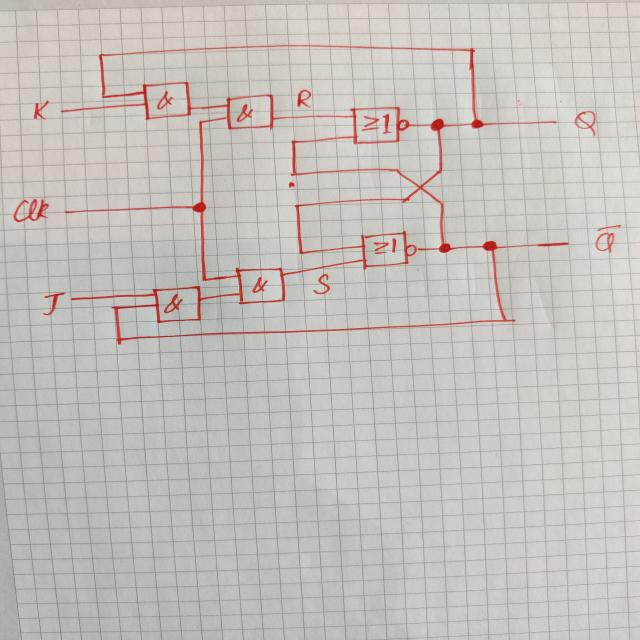crossover: (413, 182, 427, 192)
junction: (428, 119, 446, 132), (191, 201, 208, 214), (481, 240, 499, 252), (437, 242, 452, 254), (470, 118, 484, 129), (435, 198, 448, 208), (95, 51, 107, 60), (434, 167, 446, 176), (398, 196, 411, 204), (114, 336, 125, 345), (110, 304, 121, 312), (199, 275, 210, 283), (392, 166, 403, 174), (466, 46, 476, 54), (289, 138, 299, 146), (296, 249, 306, 257), (288, 170, 298, 178), (499, 317, 510, 324), (98, 93, 108, 100), (292, 203, 301, 209), (197, 119, 204, 125)
terminal: (560, 238, 574, 248), (60, 208, 72, 216), (58, 108, 68, 116), (551, 118, 560, 125), (67, 296, 76, 302)
text: (11, 197, 51, 223), (593, 223, 622, 254), (572, 110, 599, 136), (41, 292, 66, 316), (30, 99, 53, 122), (310, 274, 332, 296), (295, 88, 314, 110)
